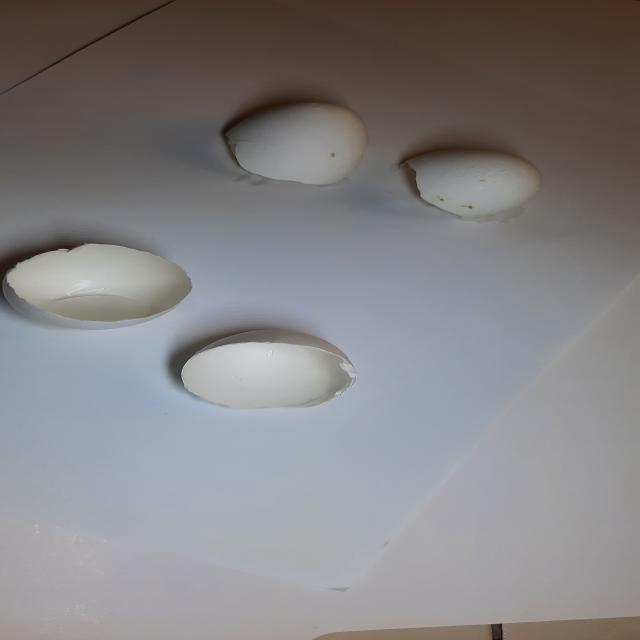egg shell: (0, 240, 197, 330), (177, 326, 361, 412), (218, 97, 374, 187), (389, 144, 553, 223)
